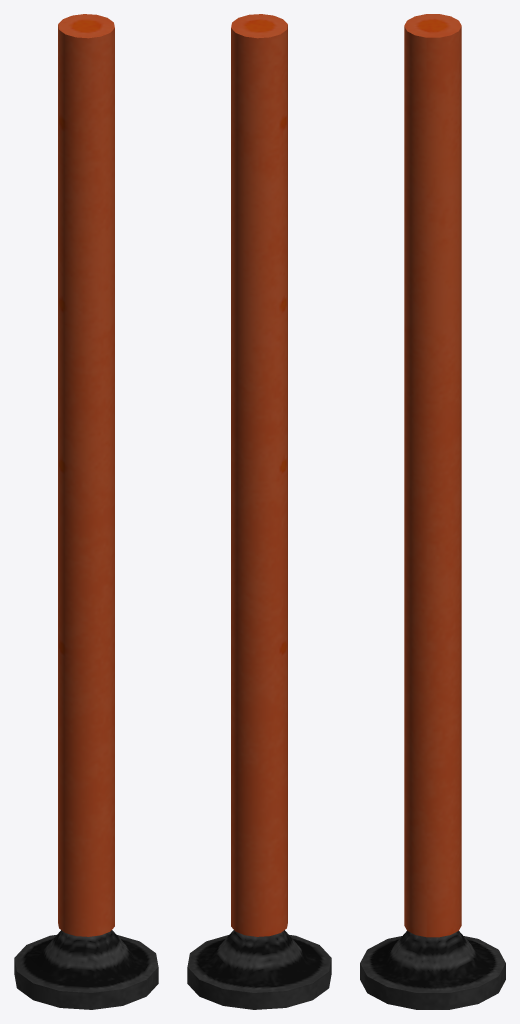
The model's file is MB_Orange_Fence.fbx.
The picture shows the model from 3 angles, left to right: view 1: azimuth 30°, elevation 25°; view 2: azimuth 150°, elevation 25°; view 3: azimuth 270°, elevation 25°; orthographic projection.
Parts seen in each view (by area): view 1: MB_Orange_Fence_LOD0; view 2: MB_Orange_Fence_LOD0; view 3: MB_Orange_Fence_LOD0.
Boxes of the visible parts, bbox=[...] form: MB_Orange_Fence_LOD0: bbox=[14, 14, 158, 1009]; MB_Orange_Fence_LOD0: bbox=[187, 14, 331, 1009]; MB_Orange_Fence_LOD0: bbox=[360, 14, 505, 1009].
Size of what is drawn, in the model's own units: 12.46 by 92.29 by 12.79.
